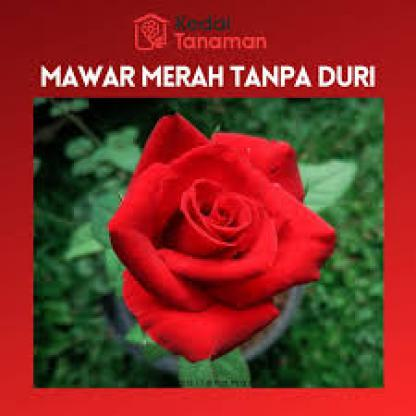Rose-Mawar: (106, 110, 336, 365)
